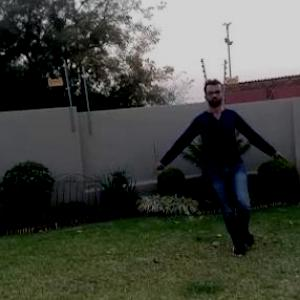land: (164, 84, 281, 245)
